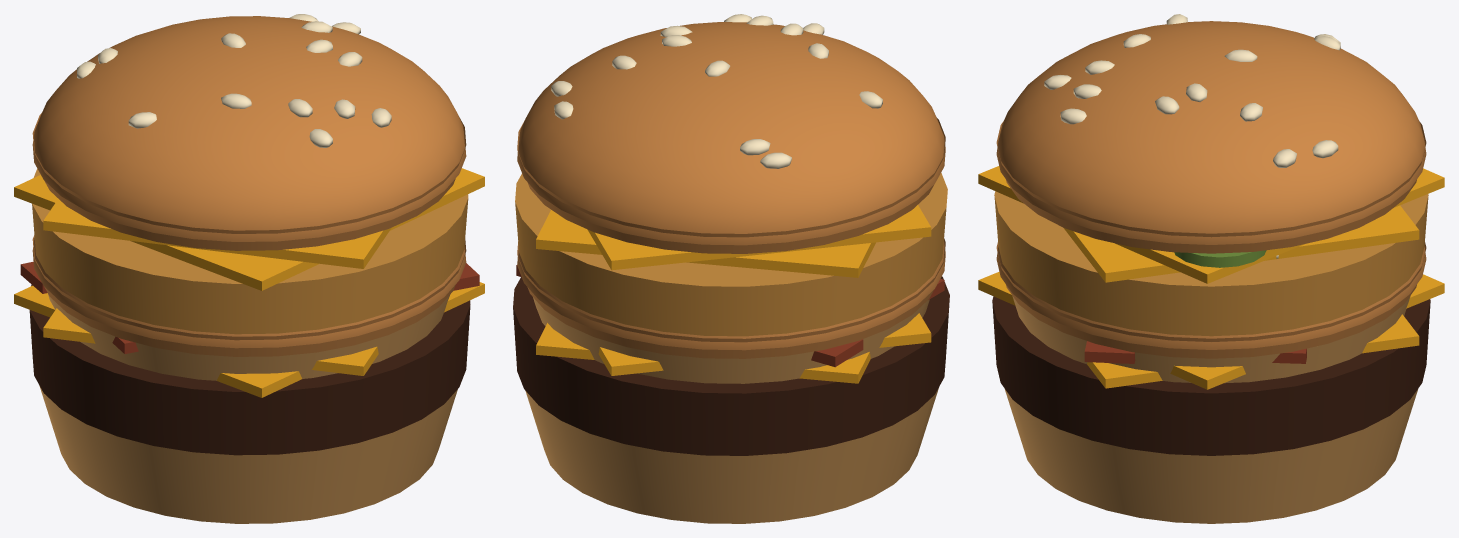
Rendered from burger-mixta.glb.
The picture shows the model from 3 angles, left to right: view 1: azimuth 30°, elevation 25°; view 2: azimuth 150°, elevation 25°; view 3: azimuth 270°, elevation 25°; orthographic projection.
Size of the model in its own units: 0.1666 by 0.155 by 0.1666.
